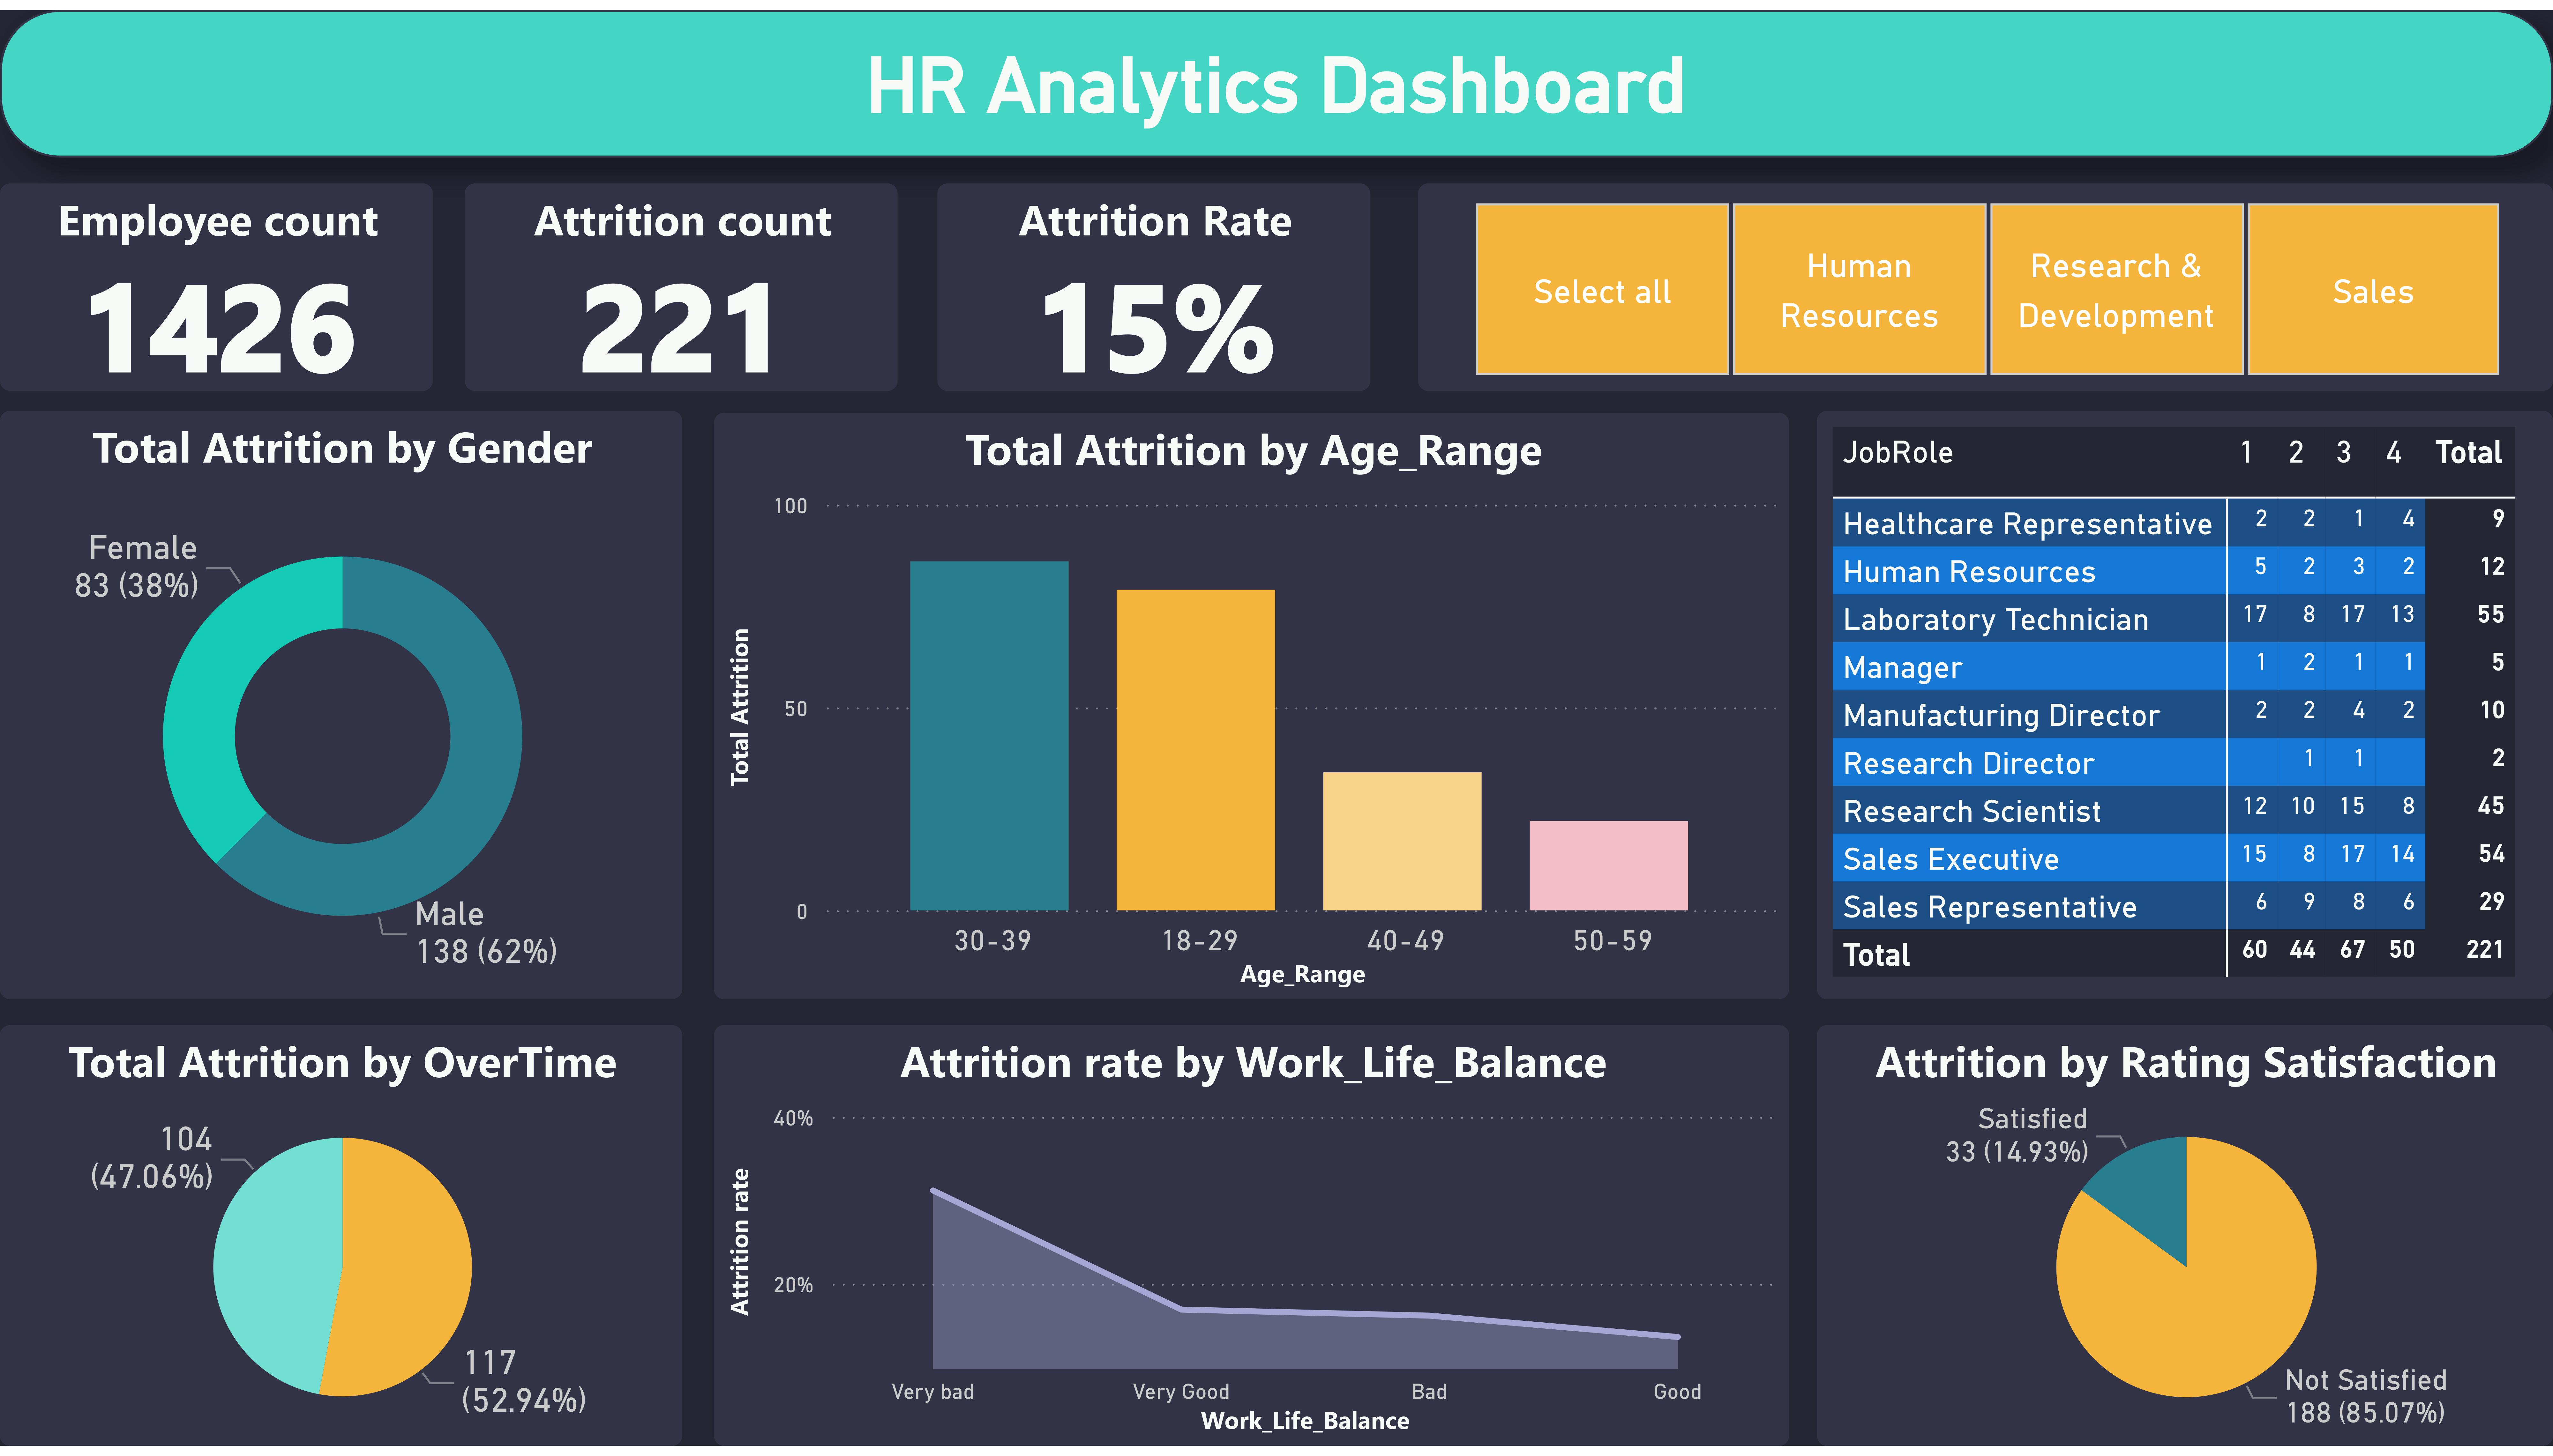

The page's visual inventory and layout, read from the dashboard file:
{"tool":"powerbi","page":{"name":"Page 1","canvas":[1280,720],"ordinal":0},"visuals":[{"type":"textbox","box":[0,0,1280,73.9],"z":0},{"type":"card","title":"Employee count","fields":{"Values":["hr.Total_Employees"]},"box":[0,87.3,216.7,104.1],"z":1000},{"type":"card","title":"Attrition count","fields":{"Values":["hr.Total Attrition"]},"box":[233.5,87.3,216.7,104.1],"z":2000},{"type":"card","title":"Attrition Rate","fields":{"Values":["hr.Attrition rate"]},"box":[470.3,87.3,216.7,104.1],"z":3000},{"type":"slicer","fields":{"Values":["hr.Department"]},"box":[710.6,87.3,569.4,104.1],"z":4000},{"type":"donutChart","fields":{"Category":["hr.Gender"],"Y":["hr.Total Attrition"]},"box":[0,201.3,341.6,294.8],"z":5000},{"type":"pieChart","fields":{"Category":["hr.OverTime"],"Y":["hr.Total Attrition"]},"box":[0,508.8,341.6,211.2],"z":6000},{"type":"clusteredColumnChart","fields":{"Category":["hr.Age_Range"],"Y":["hr.Total Attrition"]},"box":[357.8,201.6,539.2,294],"z":7000},{"type":"stackedAreaChart","fields":{"Category":["hr.Work_Life_Balance"],"Y":["hr.Attrition rate"]},"box":[358,509,539,211],"z":8000},{"type":"pivotTable","fields":{"Rows":["hr.JobRole"],"Columns":["hr.JobSatisfaction"],"Values":["hr.Total Attrition"]},"box":[911.3,201.3,368.5,294.8],"z":9000},{"type":"pieChart","title":"Attrition by Rating Satisfaction","fields":{"Category":["hr.Rating_Satisfaction"],"Y":["hr.Total Attrition"]},"box":[911.3,508.8,368.5,211.2],"z":10000}]}

Visuals, with their boxes in screenshot pixels (x1, y1, x2, y2), scaled from the page's 1280x720 canvas onto the 2553x1456 screenshot:
textbox: x1=0, y1=0, x2=2553, y2=149
"Employee count" card: x1=0, y1=176, x2=432, y2=387
"Attrition count" card: x1=466, y1=176, x2=898, y2=387
"Attrition Rate" card: x1=938, y1=176, x2=1370, y2=387
slicer - hr.Department: x1=1417, y1=176, x2=2553, y2=387
donutChart - hr.Gender x hr.Total Attrition: x1=0, y1=407, x2=681, y2=1003
pieChart - hr.OverTime x hr.Total Attrition: x1=0, y1=1029, x2=681, y2=1456
clusteredColumnChart - hr.Age_Range x hr.Total Attrition: x1=714, y1=408, x2=1789, y2=1002
stackedAreaChart - hr.Work_Life_Balance x hr.Attrition rate: x1=714, y1=1029, x2=1789, y2=1456
pivotTable - hr.JobRole x hr.JobSatisfaction: x1=1818, y1=407, x2=2553, y2=1003
"Attrition by Rating Satisfaction" pieChart: x1=1818, y1=1029, x2=2553, y2=1456
